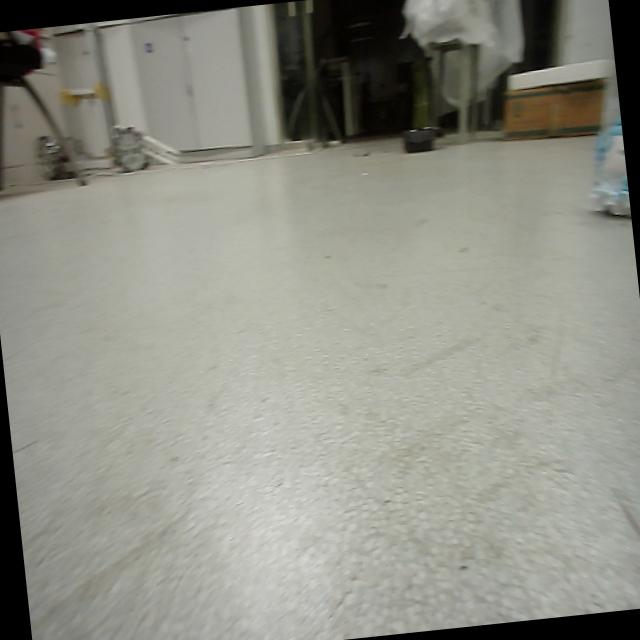xiaoba: (585, 112, 631, 223)
